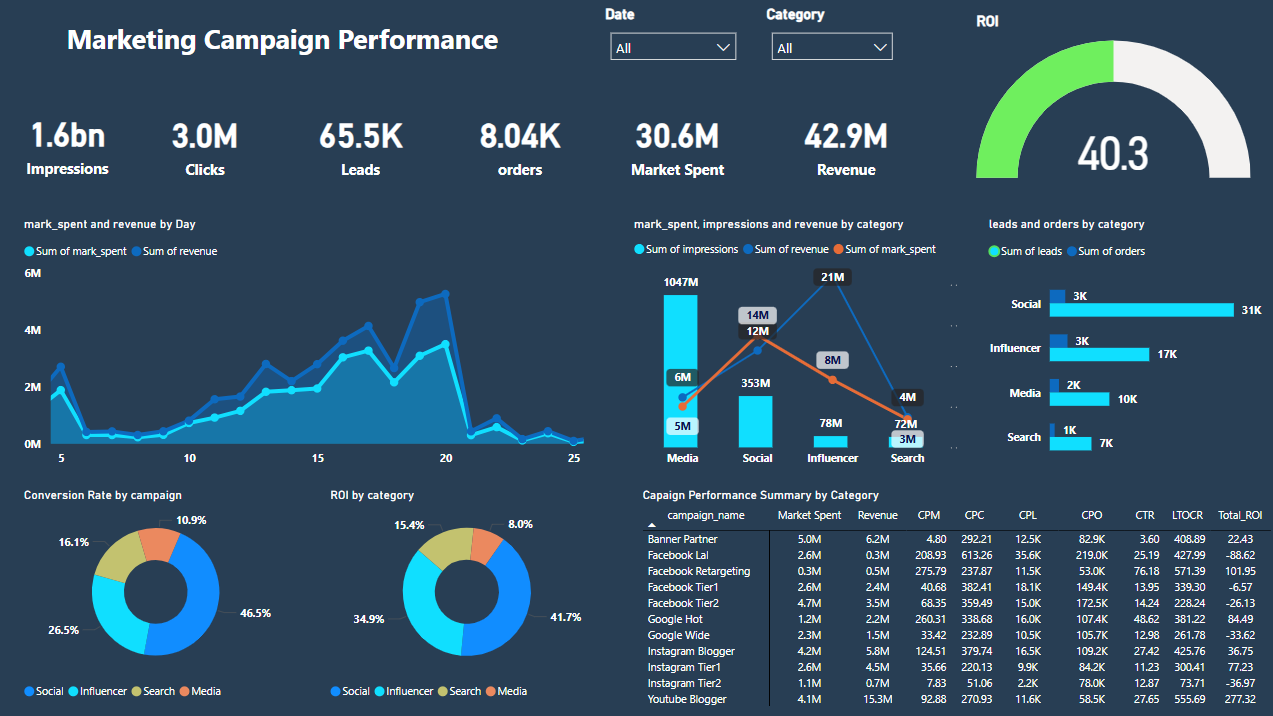

The dashboard page shown, as its layout file describes it:
{"tool":"powerbi","page":{"name":"Page 2","canvas":[1280,720],"ordinal":0},"visuals":[{"type":"donutChart","title":"ROI by category","fields":{"Category":["Marketing.category"],"Y":["Sum(Marketing.ROI)"]},"box":[304,239.5,272,224],"z":0},{"type":"donutChart","title":"Conversion Rate by campaign","fields":{"Category":["Marketing.category"],"Y":["Sum(Marketing.Conversion Rate)"]},"box":[16,239.5,272,224],"z":1000},{"type":"pivotTable","title":"Capaign Performance Summary by Category","fields":{"Rows":["Marketing.campaign_name"],"Values":["Table.Market Spent","Table.Revenue","Marketing.CPM","Table.CPC","Table.CPL","Table.CPO","Table.CTR","Table.LTOCR","Table.Total_ROI"]},"box":[608,480,656,224],"z":2000},{"type":"clusteredColumnChart","title":"leads and orders by category","fields":{"Category":["Marketing.category"],"Y":["Sum(Marketing.leads)","Sum(Marketing.orders)"]},"box":[16,480,560,224],"z":3000},{"type":"card","fields":{"Values":["Marketing.Total orders"]},"box":[496.3,105.3,144,112],"z":4000},{"type":"gauge","title":"ROI","fields":{"Y":["Table.Total ROI"]},"box":[992,16,272,208],"z":5000},{"type":"card","fields":{"Values":["Marketing.Market Spent"]},"box":[656.3,105.3,144,112],"z":6000},{"type":"textbox","box":[16,16,944,80],"z":7000},{"type":"card","fields":{"Values":["Marketing.Total Revenue"]},"box":[816.3,105.3,144,112],"z":8000},{"type":"card","title":"improgain","fields":{"Values":["Marketing.Total Impressions"]},"box":[16.3,105.3,144,112],"z":9000},{"type":"lineChart","title":"mark_spent and revenue by Day","fields":{"Category":["Marketing.c_date.Variation.Date Hierarchy.Day"],"Y":["Sum(Marketing.mark_spent)","Sum(Marketing.revenue)"]},"box":[608,239.5,656,224],"z":10000},{"type":"card","fields":{"Values":["Marketing.Total Clicks"]},"box":[176.3,105.3,144,112],"z":11000},{"type":"card","fields":{"Values":["Table.Leads"]},"box":[336.3,105.3,144,112],"z":12000}]}

Visuals, with their boxes in screenshot pixels (x1, y1, x2, y2), scaled from the page's 1280x720 canvas onto the 1273x716 screenshot:
"ROI by category" donutChart: [302, 238, 573, 461]
"Conversion Rate by campaign" donutChart: [16, 238, 286, 461]
"Capaign Performance Summary by Category" pivotTable: [605, 477, 1257, 700]
"leads and orders by category" clusteredColumnChart: [16, 477, 573, 700]
card - Marketing.Total orders: [494, 105, 637, 216]
"ROI" gauge: [987, 16, 1257, 223]
card - Marketing.Market Spent: [653, 105, 796, 216]
textbox: [16, 16, 955, 95]
card - Marketing.Total Revenue: [812, 105, 955, 216]
"improgain" card: [16, 105, 159, 216]
"mark_spent and revenue by Day" lineChart: [605, 238, 1257, 461]
card - Marketing.Total Clicks: [175, 105, 319, 216]
card - Table.Leads: [334, 105, 478, 216]
